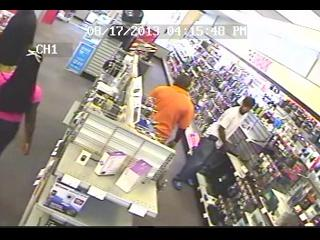Normal: (172, 96, 258, 191), (0, 24, 44, 158), (146, 80, 195, 154), (0, 10, 37, 68)
